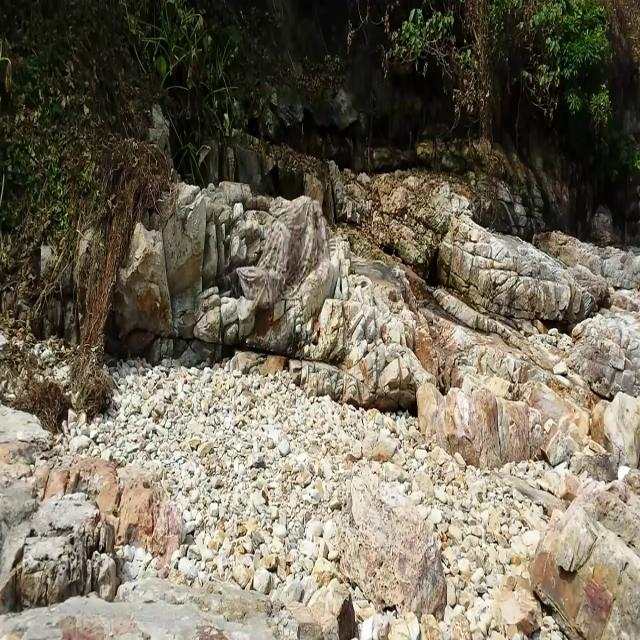Camouflage: (233, 194, 328, 308)
